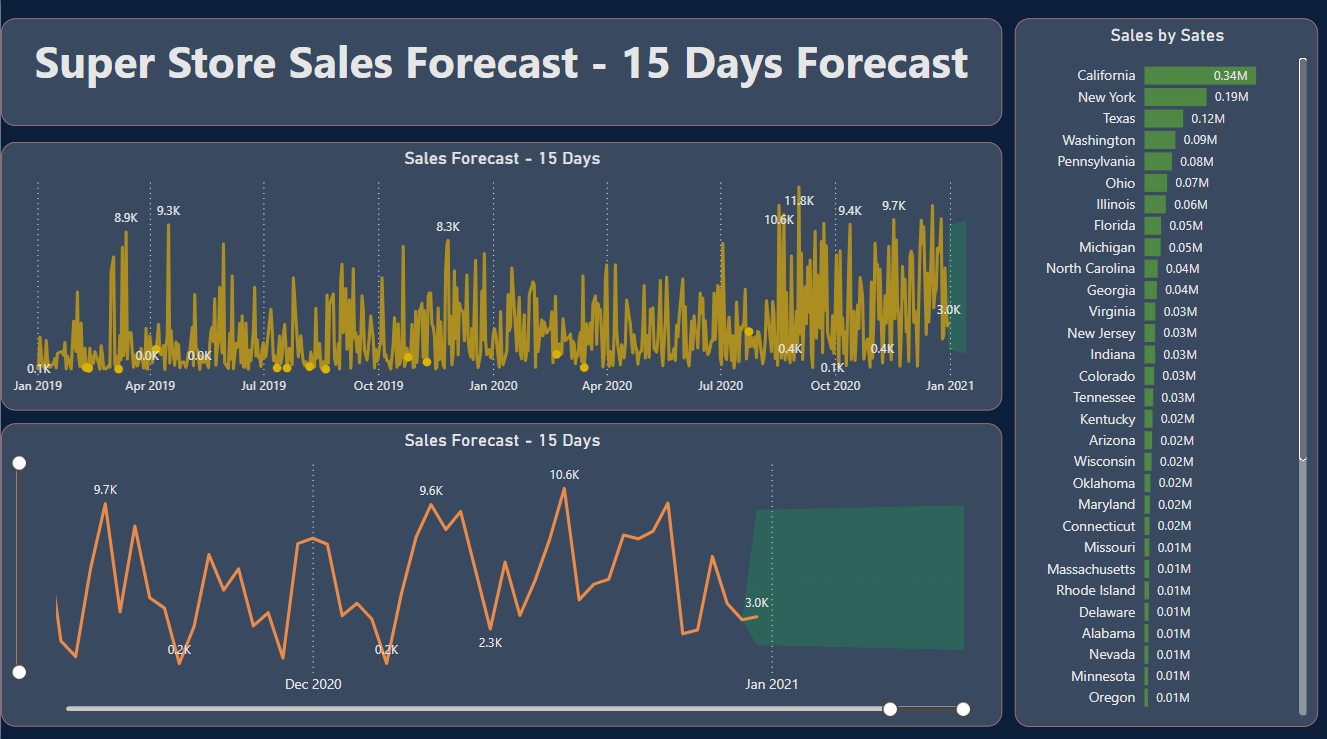

Layout of this report page (visuals, bound fields, positions):
{"tool":"powerbi","page":{"name":"Page 2","canvas":[1280,720],"ordinal":1},"visuals":[{"type":"lineChart","title":"Sales Forecast - 15 Days","fields":{"Y":["Sum(SuperStore_Sales_Dataset.Sales)"],"Category":["SuperStore_Sales_Dataset.Order Date.Variation.Date Hierarchy.Year","SuperStore_Sales_Dataset.Order Date.Variation.Date Hierarchy.Quarter","SuperStore_Sales_Dataset.Order Date.Variation.Date Hierarchy.Month","SuperStore_Sales_Dataset.Order Date.Variation.Date Hierarchy.Day"]},"box":[0,411.4,966.4,293.2],"z":0},{"type":"lineChart","title":"Sales Forecast - 15 Days","fields":{"Y":["Sum(SuperStore_Sales_Dataset.Sales)"],"Category":["SuperStore_Sales_Dataset.Order Date.Variation.Date Hierarchy.Year","SuperStore_Sales_Dataset.Order Date.Variation.Date Hierarchy.Quarter","SuperStore_Sales_Dataset.Order Date.Variation.Date Hierarchy.Month","SuperStore_Sales_Dataset.Order Date.Variation.Date Hierarchy.Day"]},"box":[0,139.9,966.4,259.4],"z":1000},{"type":"clusteredBarChart","title":"Sales by Sates","fields":{"Category":["SuperStore_Sales_Dataset.State"],"Y":["Sum(SuperStore_Sales_Dataset.Sales)"]},"box":[978.4,20.5,293.2,684.1],"z":2000},{"type":"textbox","box":[0,20.5,966.3,103.6],"z":3000}]}

Visuals, with their boxes in screenshot pixels (x1, y1, x2, y2), scaled from the page's 1280x720 canvas onto the 1327x739 screenshot:
"Sales Forecast - 15 Days" lineChart: pyautogui.locateOnScreen(0, 422, 1002, 723)
"Sales Forecast - 15 Days" lineChart: pyautogui.locateOnScreen(0, 144, 1002, 410)
"Sales by Sates" clusteredBarChart: pyautogui.locateOnScreen(1014, 21, 1318, 723)
textbox: pyautogui.locateOnScreen(0, 21, 1002, 127)
